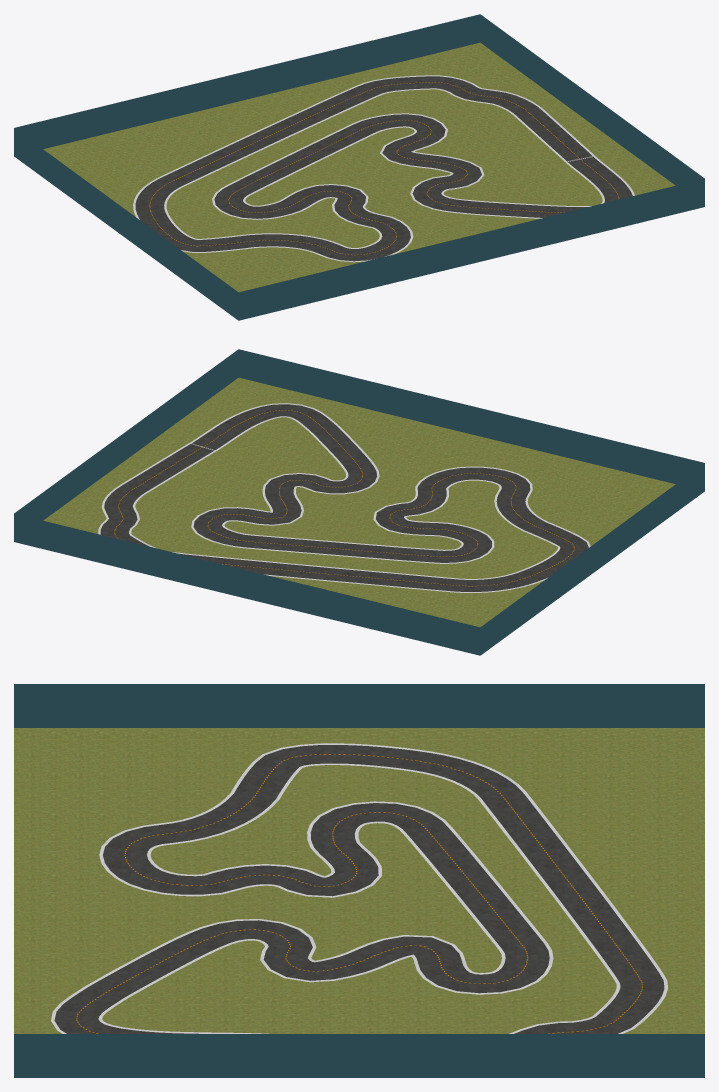
File: red_star_pro_cw.dae
3 views of the same model, one above another, from view 1: azimuth 30°, elevation 25°; view 2: azimuth 150°, elevation 25°; view 3: azimuth 270°, elevation 25° (orthographic). The views are drawn at different scales.
Visible parts, largest first — view 1: field, wall, road, il, ol, cl; view 2: field, wall, road, il, ol, cl; view 3: field, wall, road, il, ol, cl.
Part boxes in pixels (x1,y1,x2,y2): field: [43, 42, 675, 292]; wall: [14, 14, 704, 320]; road: [135, 76, 632, 261]; il: [164, 88, 604, 248]; ol: [133, 75, 634, 262]; cl: [149, 82, 619, 255]; field: [43, 377, 675, 627]; wall: [14, 349, 704, 655]; road: [100, 404, 588, 591]; il: [129, 416, 560, 579]; ol: [98, 403, 590, 592]; cl: [114, 410, 574, 586]; field: [14, 728, 704, 1033]; wall: [14, 684, 704, 1077]; road: [54, 745, 664, 1033]; il: [98, 763, 620, 1033]; ol: [51, 743, 668, 1033]; cl: [76, 754, 642, 1033].
Bounding box in the file's own units: 17.17 × 14.33 × 1.
Materials: 7 (7 with a texture image).
